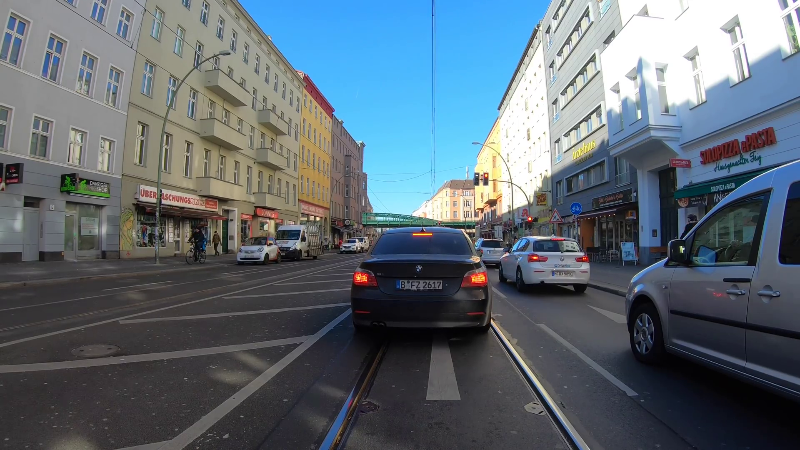Plate: (394, 278, 443, 291), (551, 269, 578, 278)
